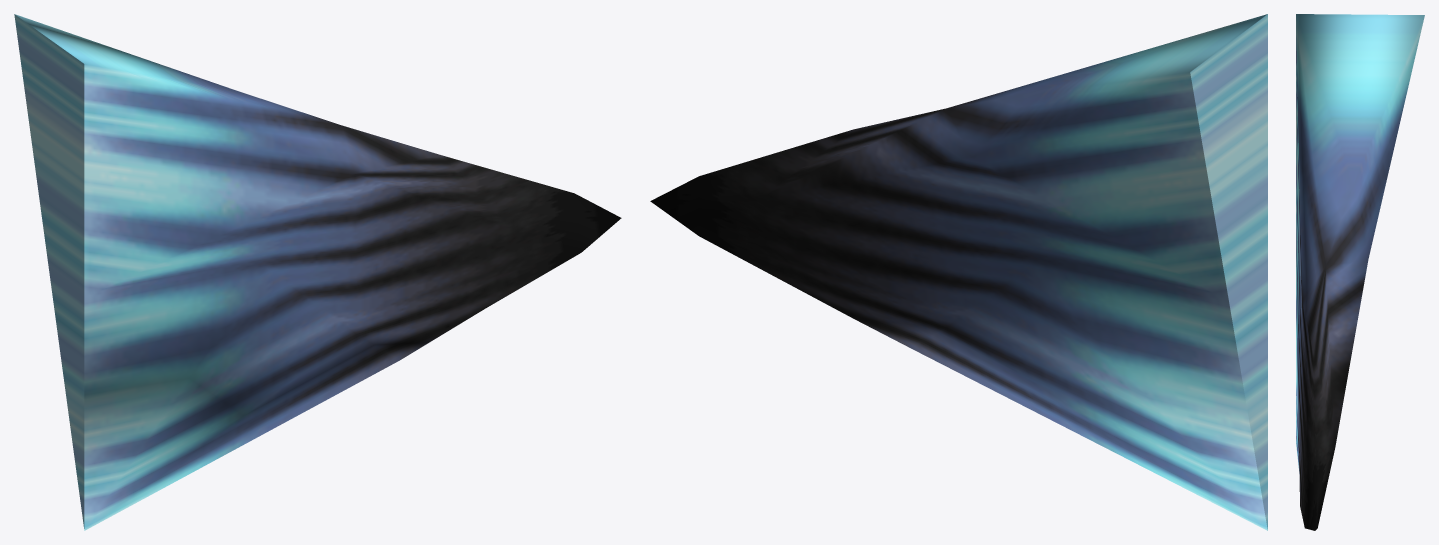
Rendered from RTorch.obj.
3 views of the same model, side by side, from view 1: azimuth 30°, elevation 25°; view 2: azimuth 150°, elevation 25°; view 3: azimuth 270°, elevation 25° (orthographic). The views are drawn at different scales.
Size of the model in its own units: 1.16 by 0.9467 by 0.2577.
1 material, 1 textured.
